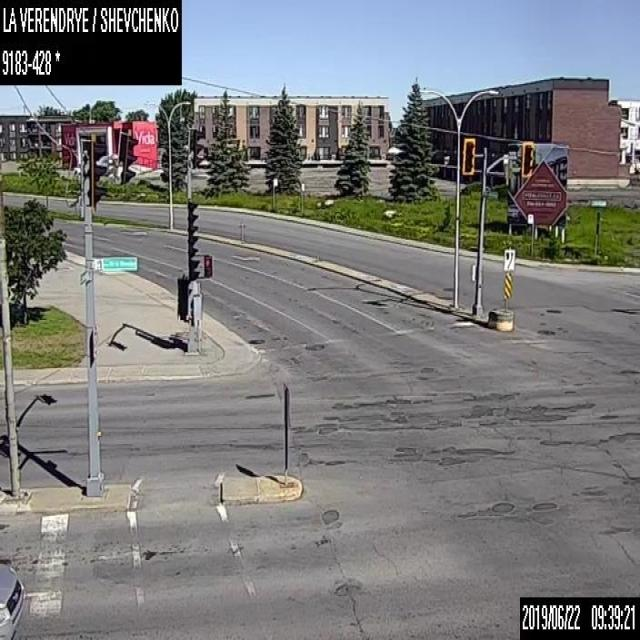vehicle: (0, 561, 26, 638)
